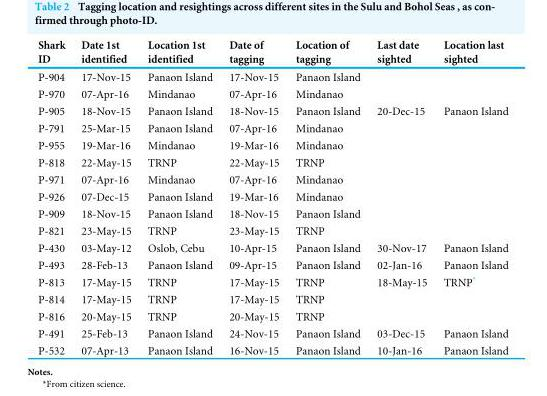table: (37, 37, 507, 356)
table column: (138, 37, 220, 356), (286, 37, 368, 356), (434, 37, 507, 356), (72, 37, 138, 356), (220, 37, 286, 356), (368, 37, 434, 356), (37, 37, 72, 356)
table column header: (37, 37, 507, 66)
table row: (37, 37, 507, 66), (37, 66, 507, 84), (37, 135, 507, 153), (37, 306, 507, 324), (37, 84, 507, 101), (37, 101, 507, 118), (37, 118, 507, 135), (37, 153, 507, 170), (37, 170, 507, 187), (37, 187, 507, 204), (37, 204, 507, 221), (37, 221, 507, 238), (37, 238, 507, 255), (37, 255, 507, 272), (37, 272, 507, 289), (37, 289, 507, 306), (37, 324, 507, 341), (37, 341, 507, 356)
